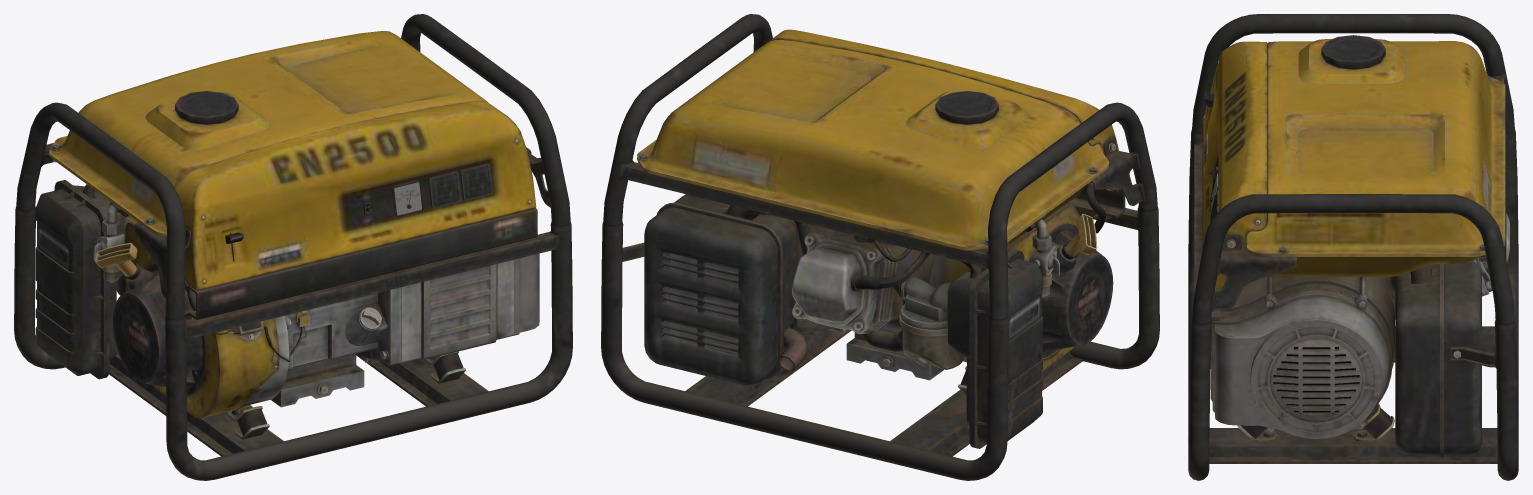
Rendered from generator.glb.
3 views of the same model, side by side, from view 1: azimuth 30°, elevation 25°; view 2: azimuth 150°, elevation 25°; view 3: azimuth 270°, elevation 25° (orthographic).
Parts seen in each view (by area): view 1: portable_generator; view 2: portable_generator; view 3: portable_generator.
Part boxes in pixels (x1,y1,x2,y2): portable_generator: (14, 14, 572, 480); portable_generator: (601, 14, 1159, 480); portable_generator: (1188, 14, 1518, 480).
Bounding box in the file's own units: 0.8183 × 0.5769 × 0.5641.
Materials: 2 (2 with a texture image).
